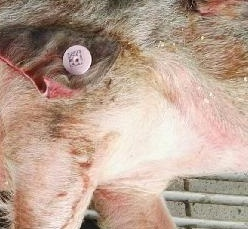text: (51, 35, 105, 85)
